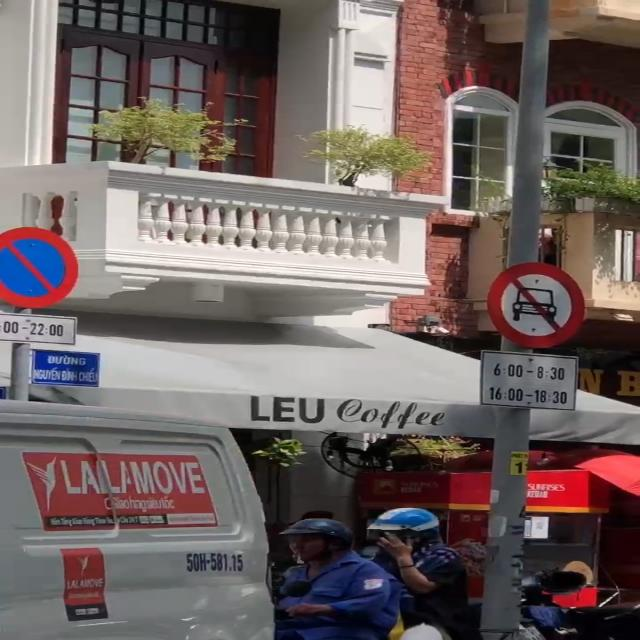Bien bao cam do xe: (0, 212, 86, 318)
Bien bao cam xe oto: (478, 262, 596, 348)
